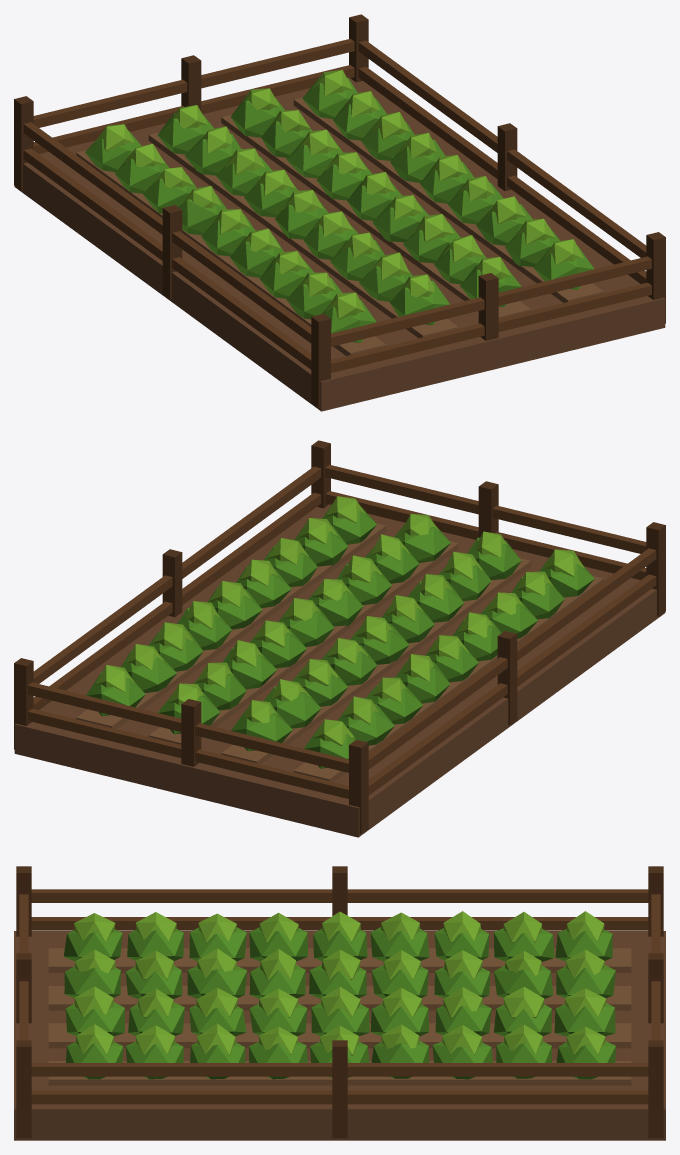
Rendered from greens.glb.
3 renders of one model, top to bottom at view 1: azimuth 30°, elevation 25°; view 2: azimuth 150°, elevation 25°; view 3: azimuth 270°, elevation 25°, orthographic. The views are drawn at different scales.
Visible parts, largest first — view 1: greens; view 2: greens; view 3: greens.
Boxes of the visible parts, x1,y1,x2,y2 form: greens: (14, 14, 665, 411); greens: (14, 440, 665, 837); greens: (14, 866, 665, 1140).
Size of the model in its own units: 5.56 by 1.36 by 8.5.
